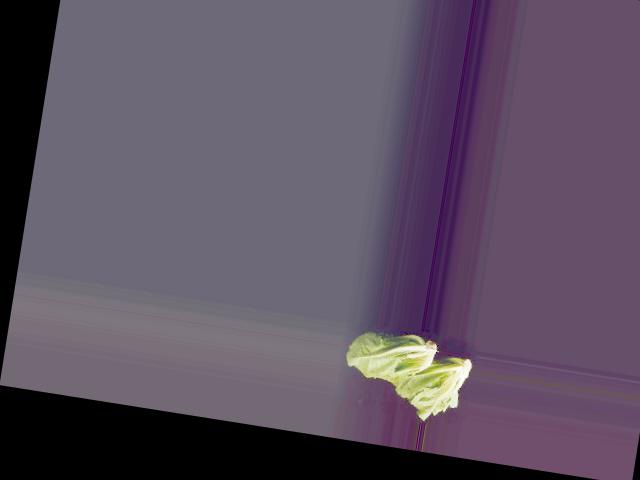lettuce: (376, 336, 474, 425)
